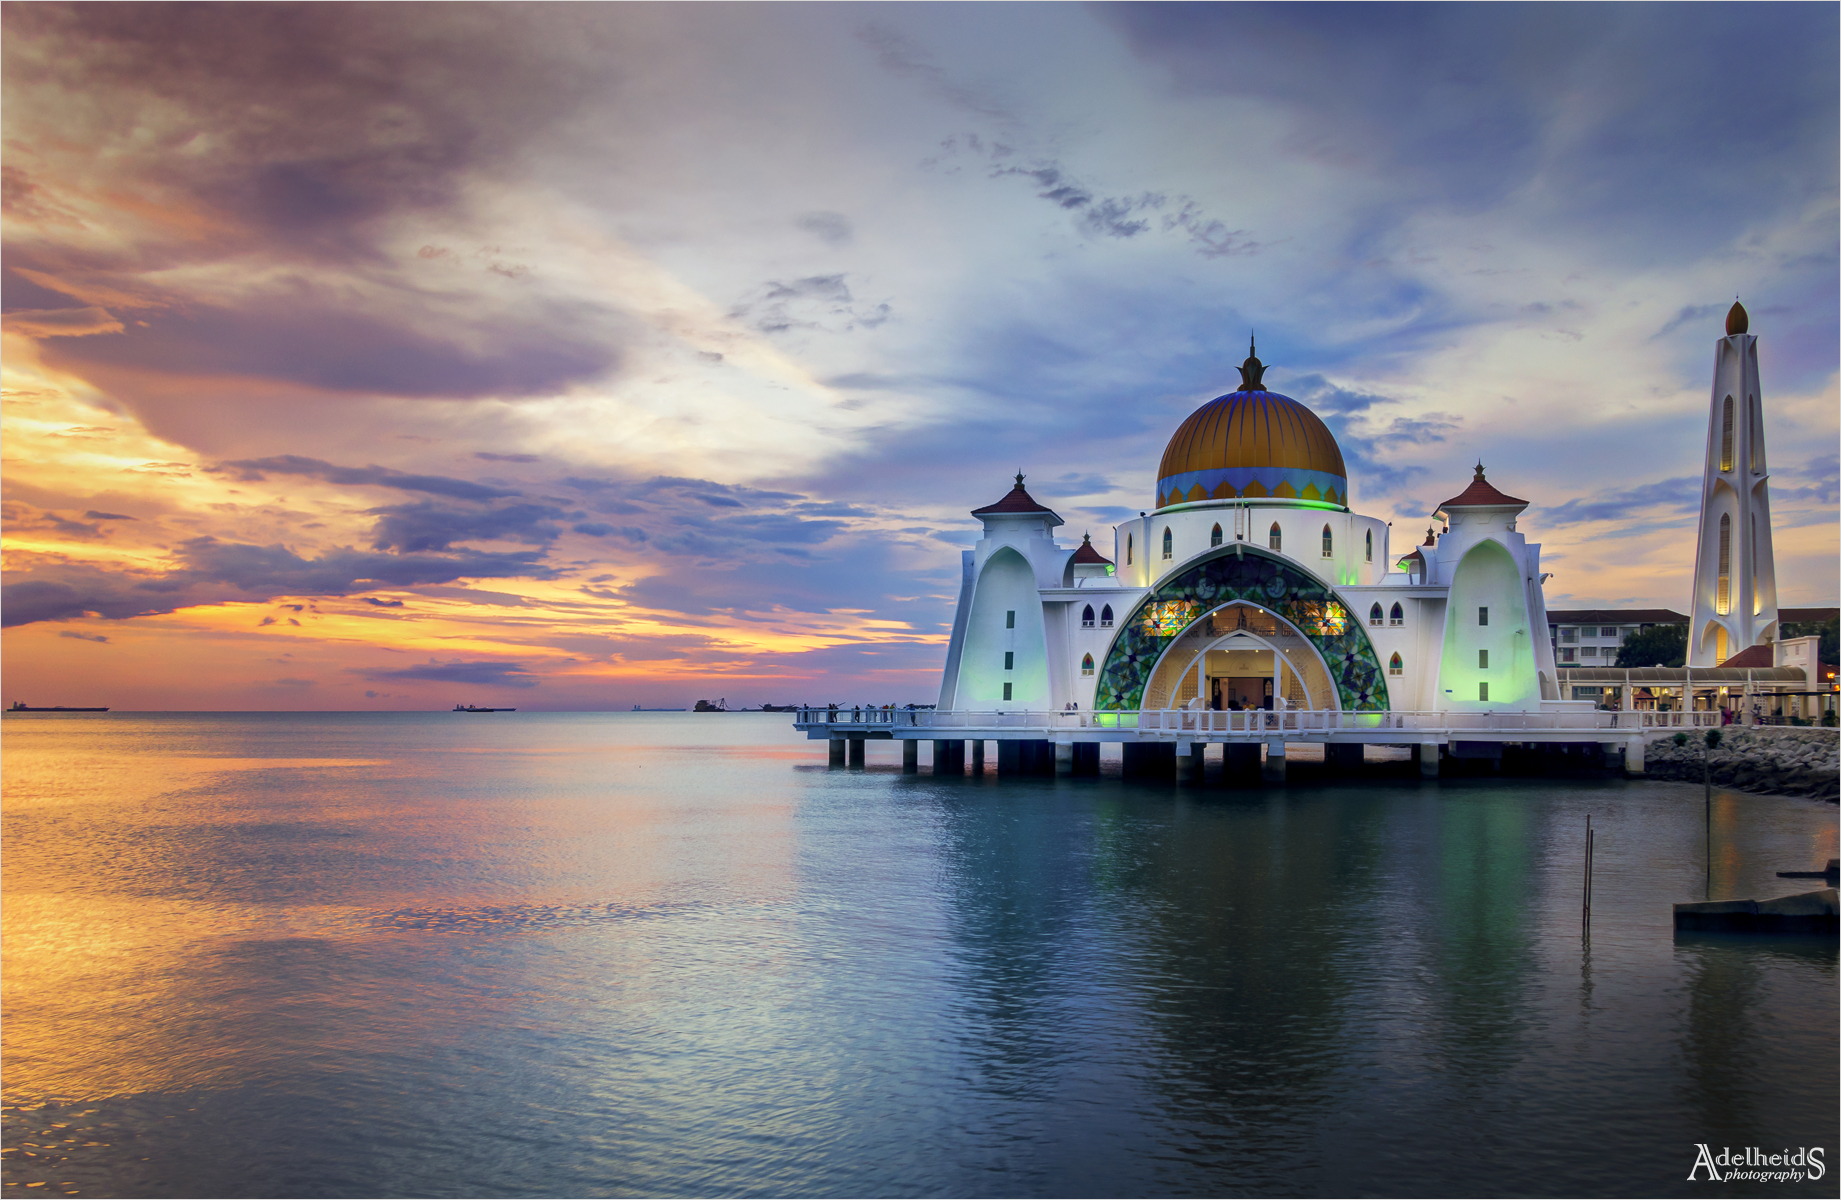Mosque: (810, 256, 1794, 770)
